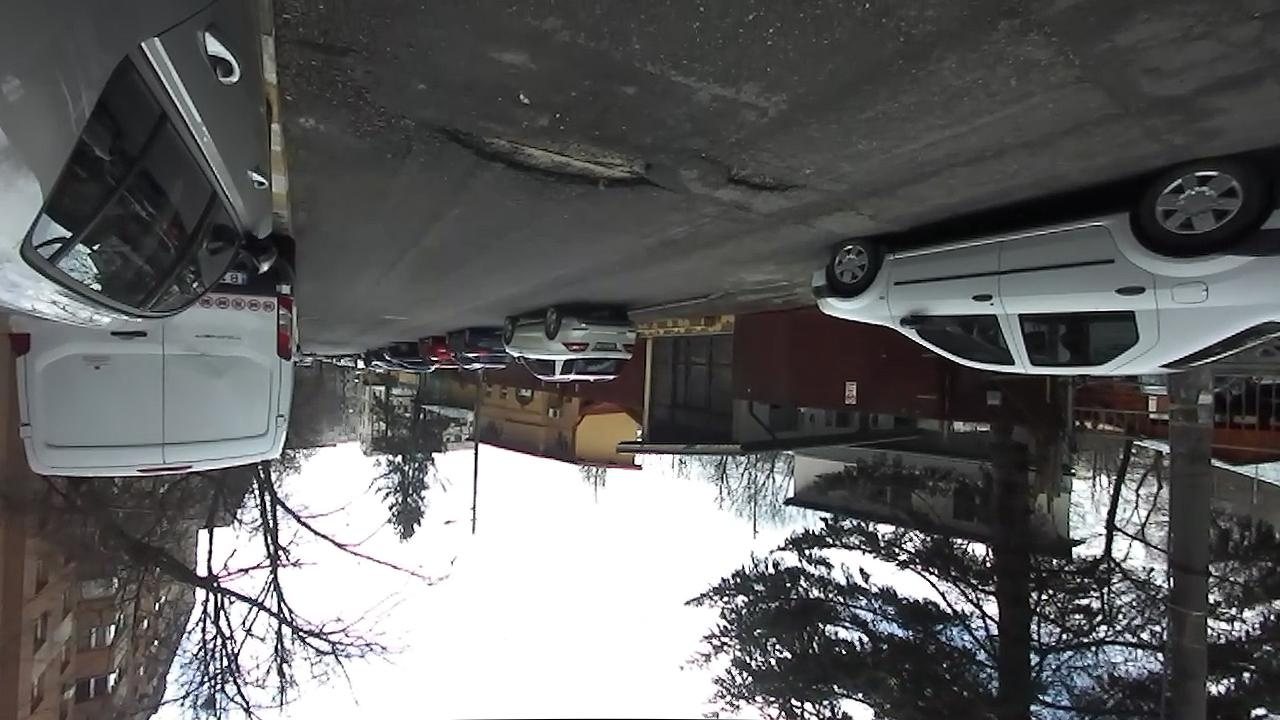pothole: (420, 118, 667, 196), (706, 158, 803, 200)
